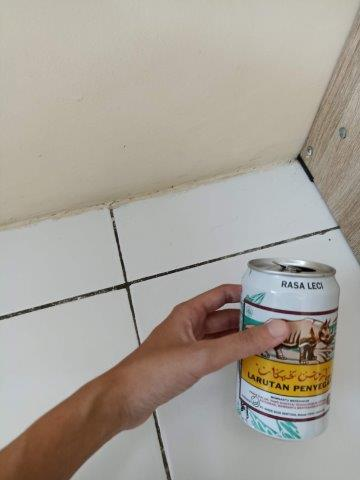kaleng: (238, 258, 341, 442)
